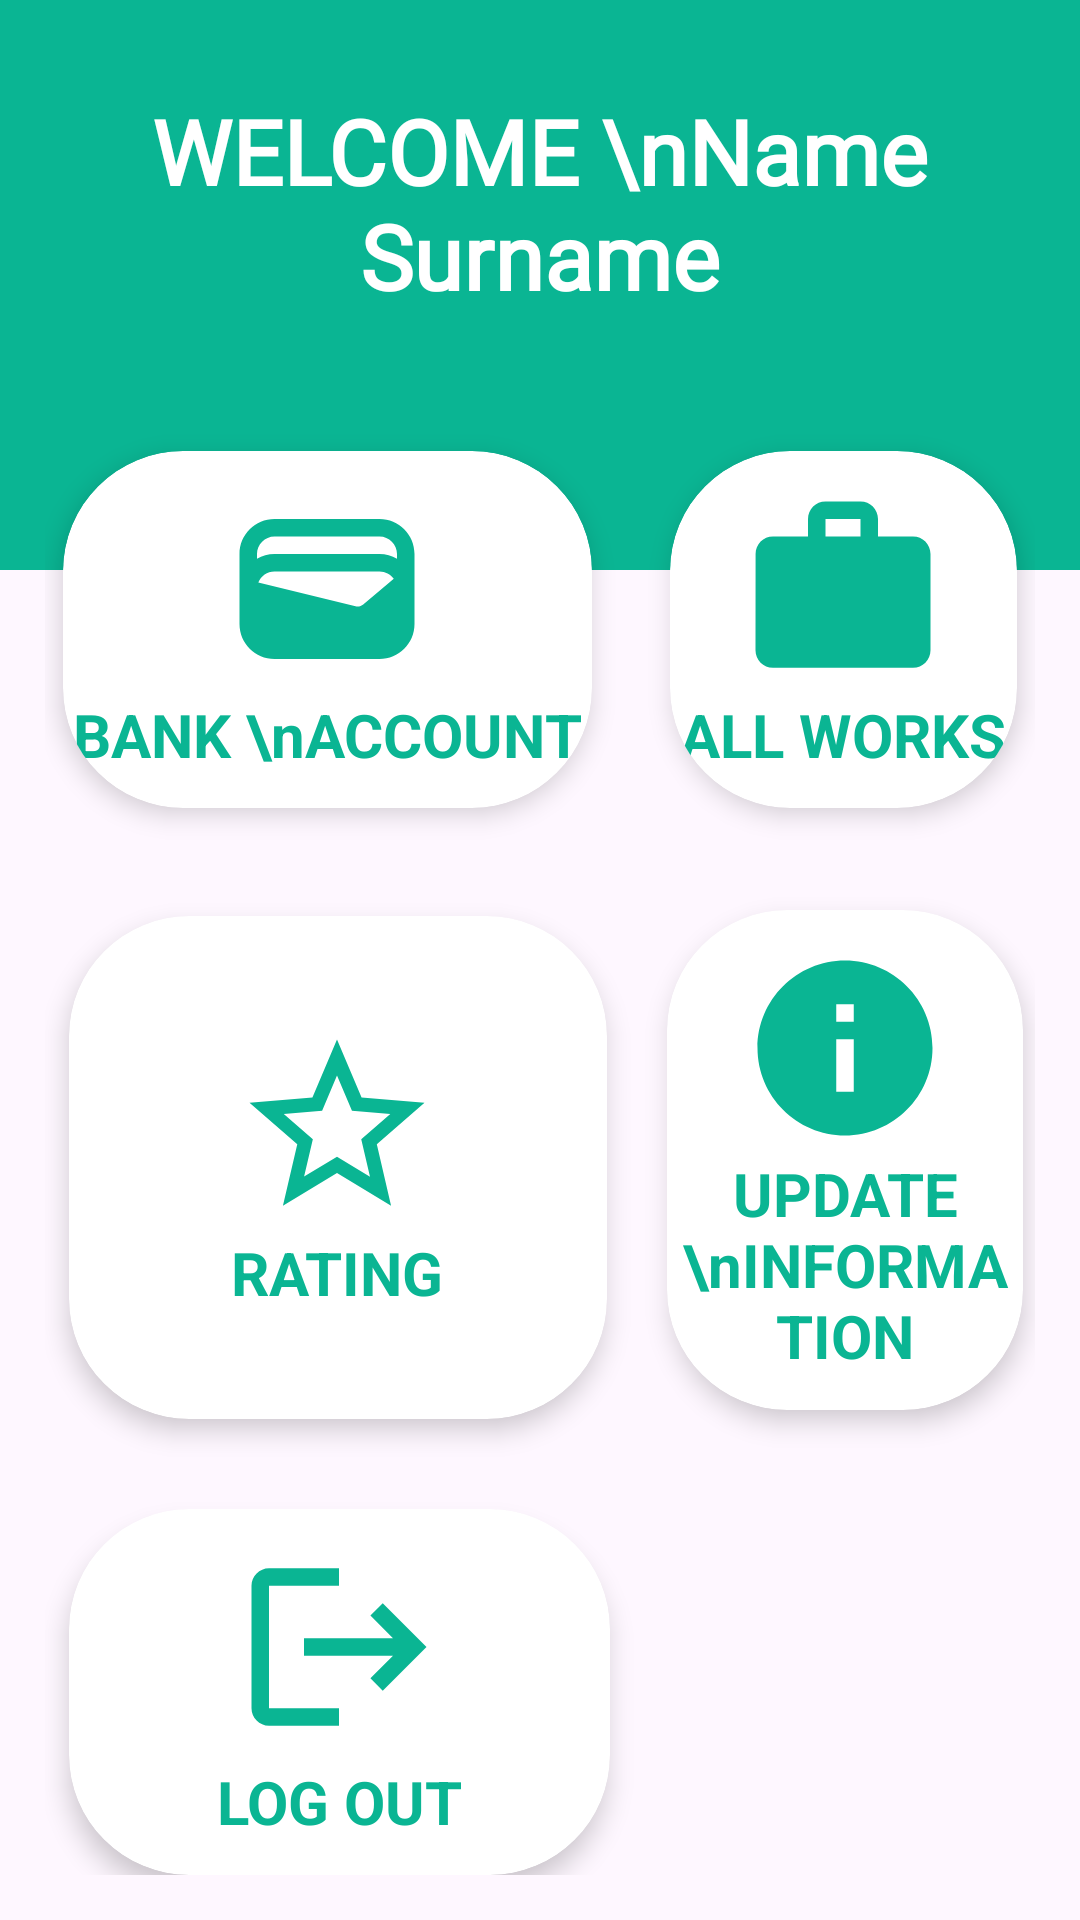

Named icons in this screenshot (1080w x 1920h) and their centers, point (x, y):
star: point (337, 1123)
wallet: point (327, 589)
